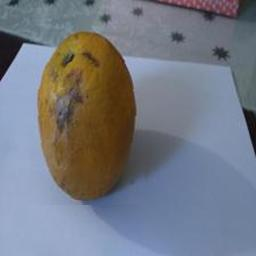Orange Semirotten: (29, 21, 151, 205)
